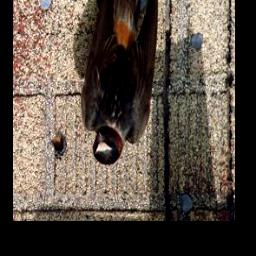Swallow: (82, 0, 161, 167)
